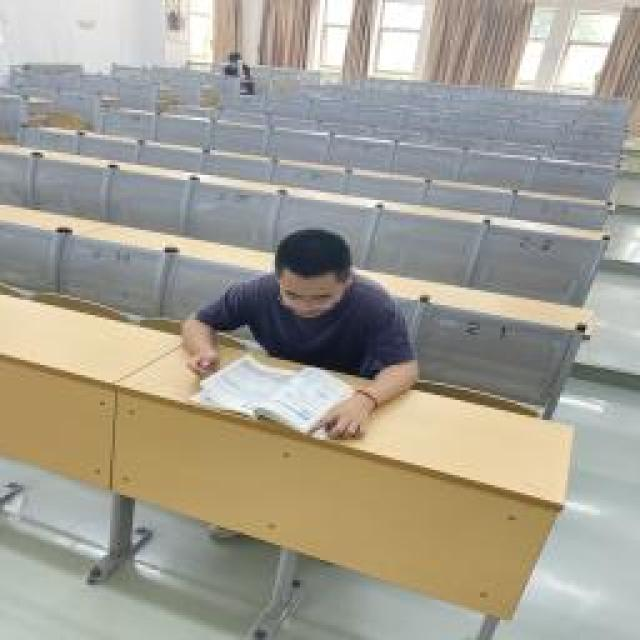study: (180, 230, 418, 438)
